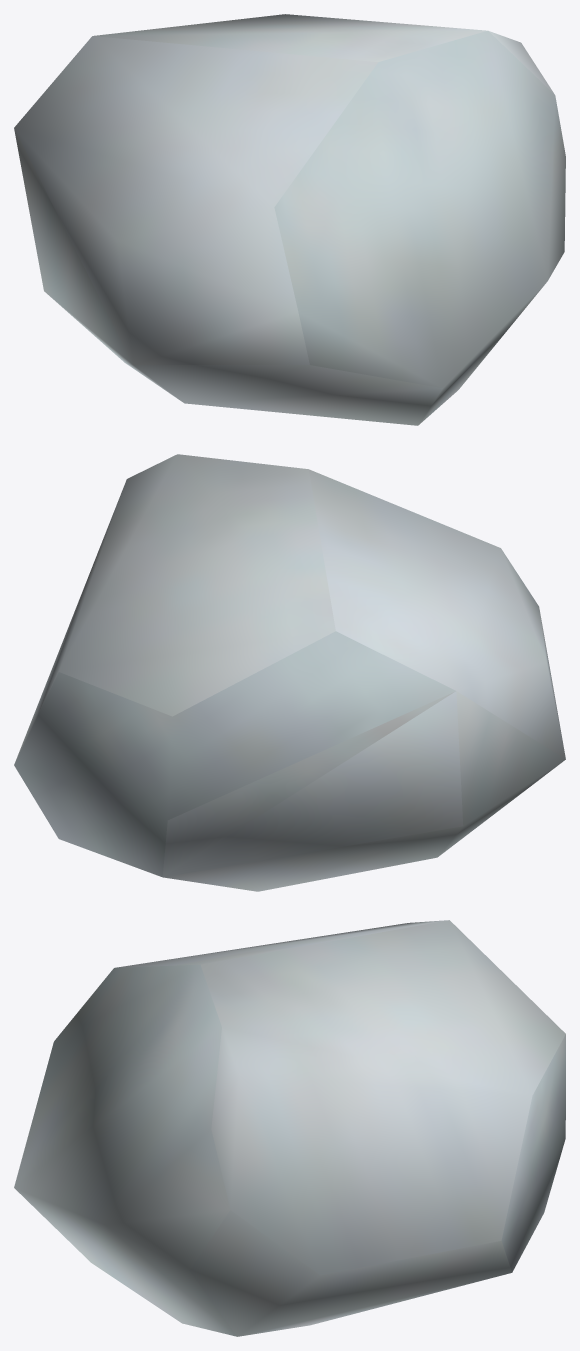
File: P_RockClassic2.obj
3 renders of one model, top to bottom at view 1: azimuth 30°, elevation 25°; view 2: azimuth 150°, elevation 25°; view 3: azimuth 270°, elevation 25°, orthographic. The views are drawn at different scales.
Bounding box in the file's own units: 0.8889 × 0.6288 × 0.9594.
